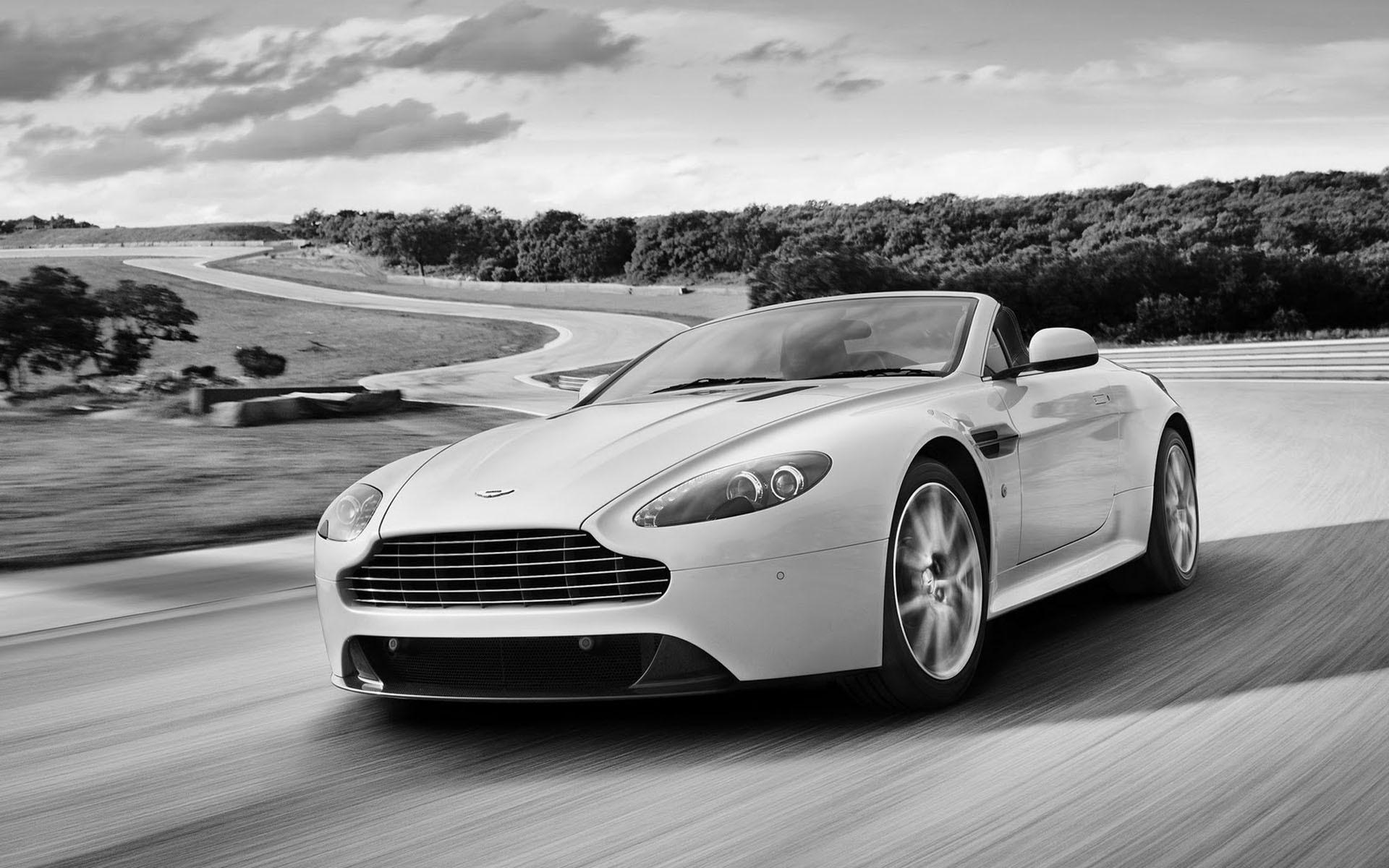car: (309, 287, 1207, 710)
